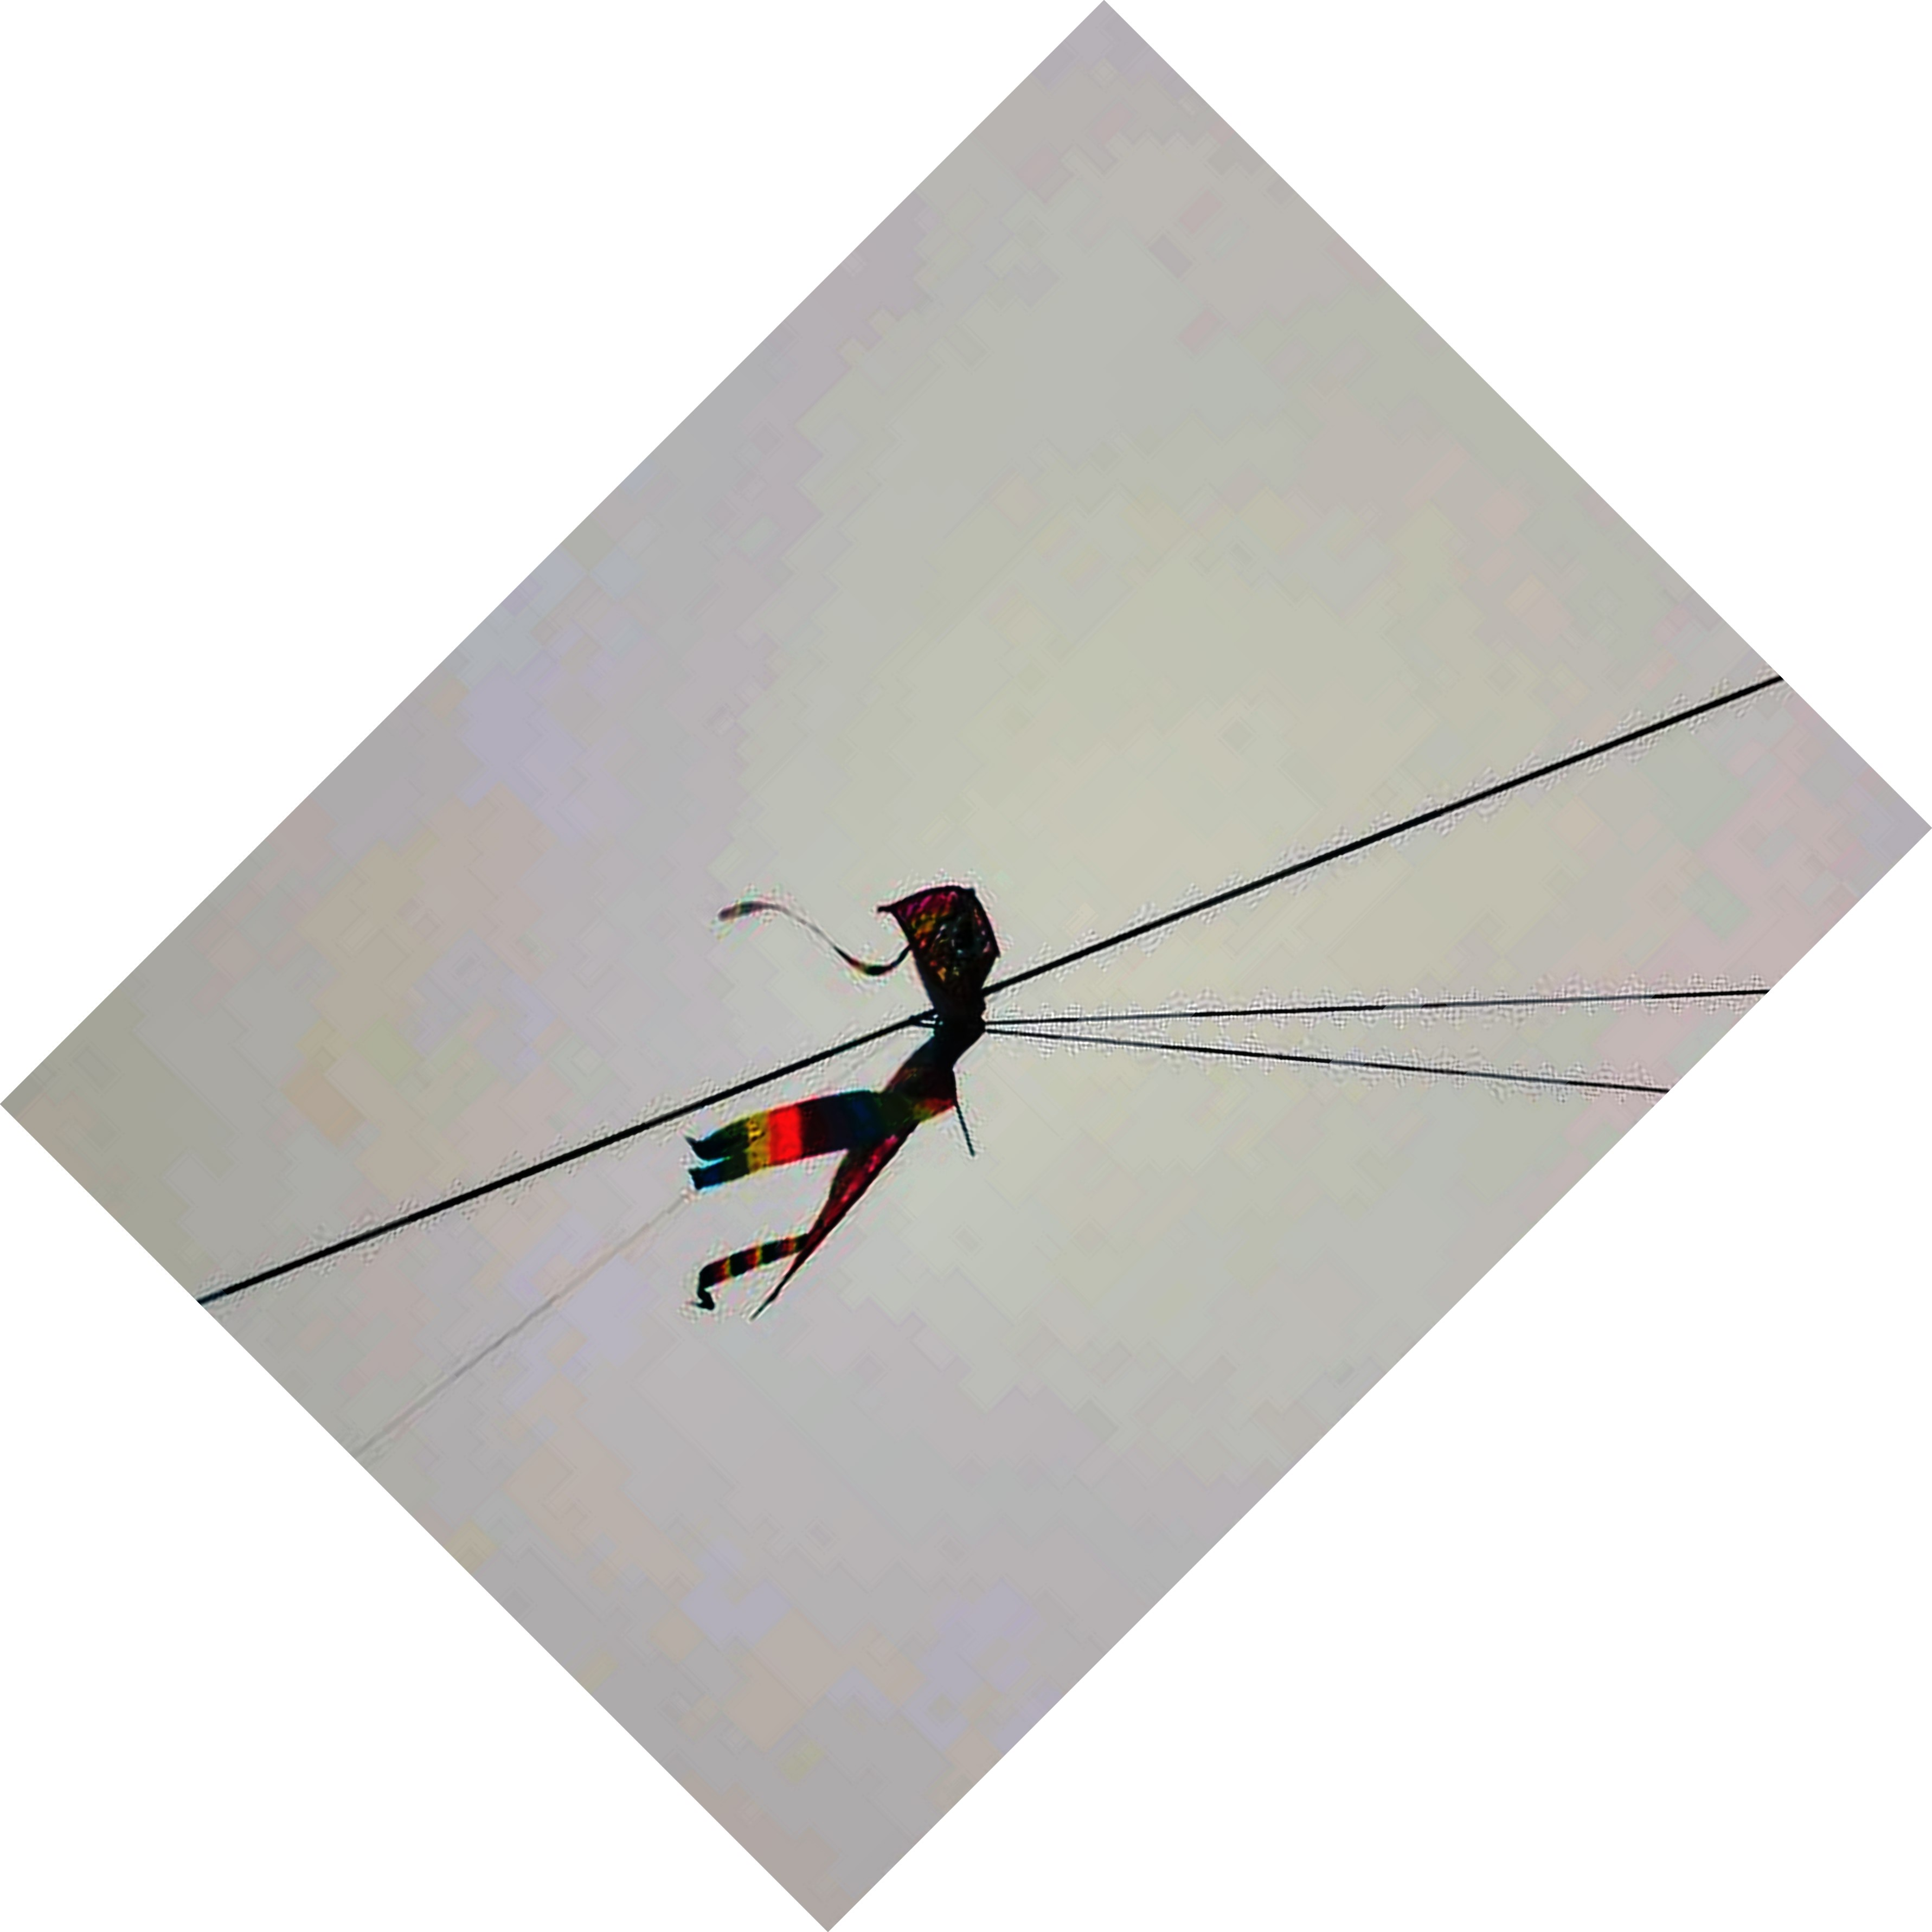wire foreign body: (642, 847, 1065, 1329)
